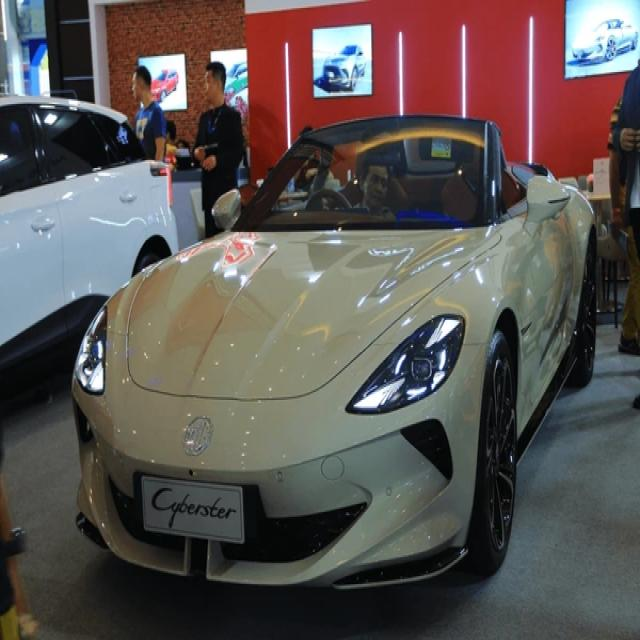mg: (181, 412, 216, 460)
